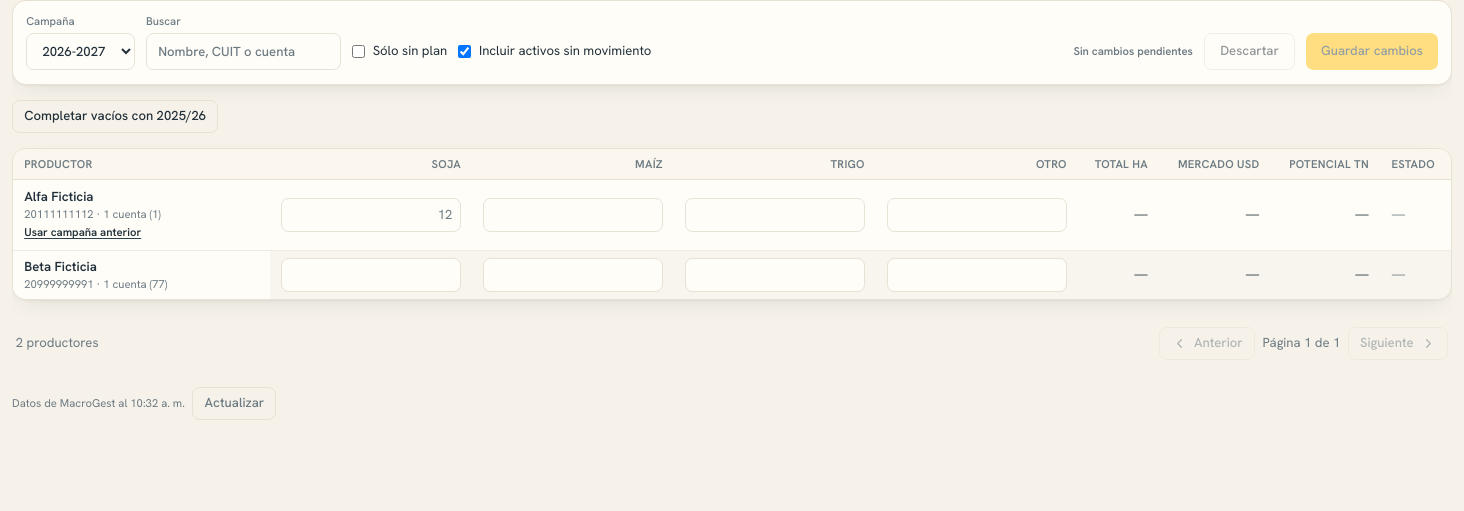
Test: plan de siembra › una recarga fallida tras 409 conserva el borrador y el conflicto
Type "3" into the field named "Hectáreas de soja de Alfa Ficticia" at (371,215), box [281,198,461,232]
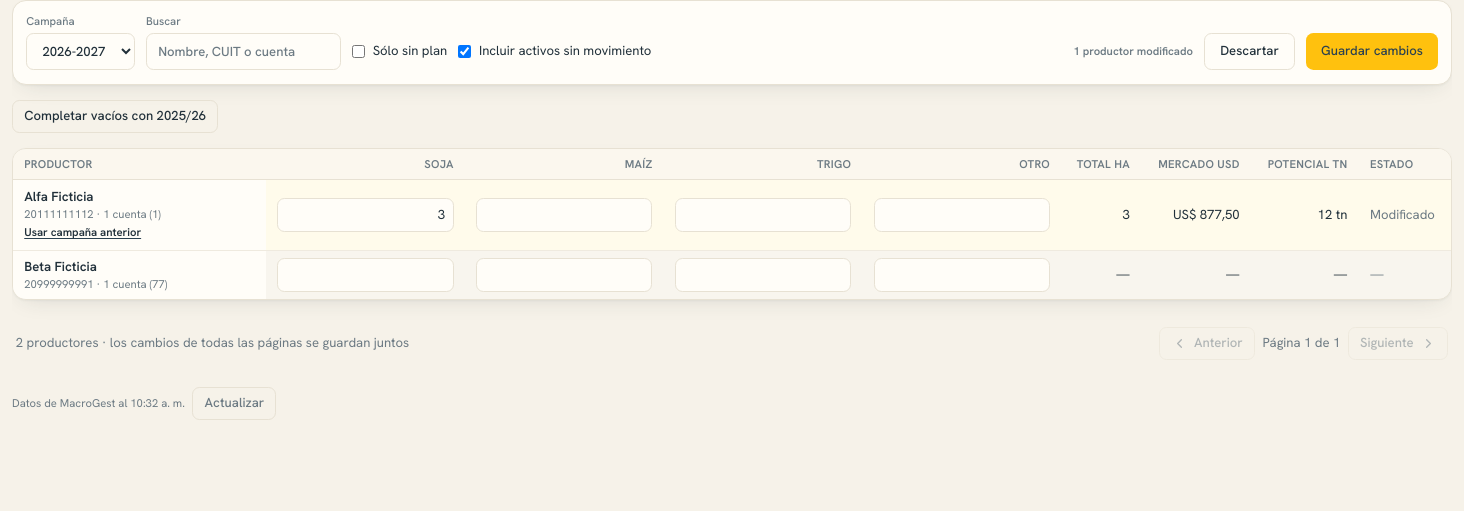
Click the button "Guardar cambios" at (1372,52), box [1306,33,1438,70]
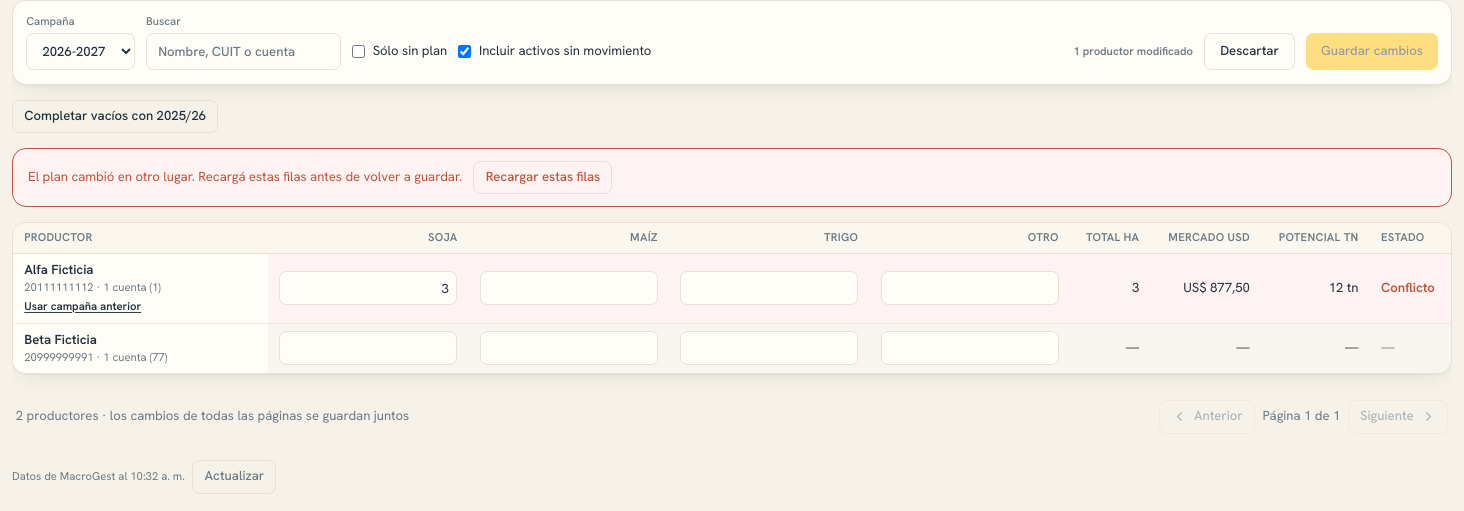
Result: the text "Conflicto" is shown at [1381,279,1435,296]
Click the button "Recargar estas filas" at (543,177), box [473,160,612,194]
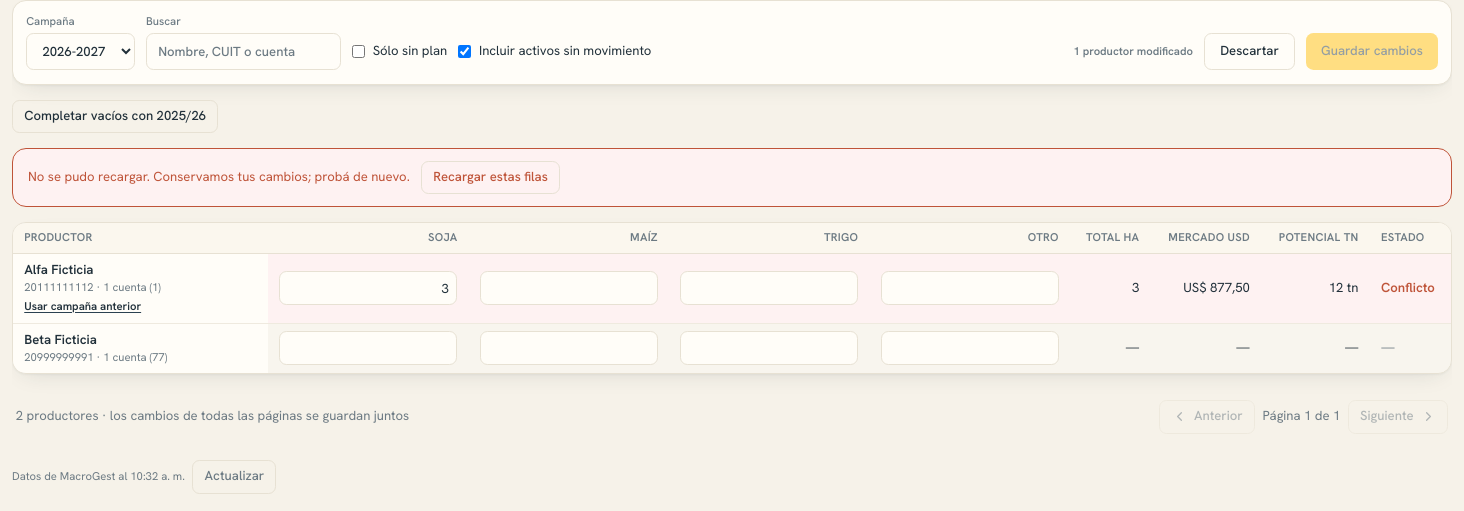
Result: the text "Conflicto" is shown at [1381,279,1435,296]
Result: the text "Conservamos tus cambios" is shown at [28,168,410,185]
